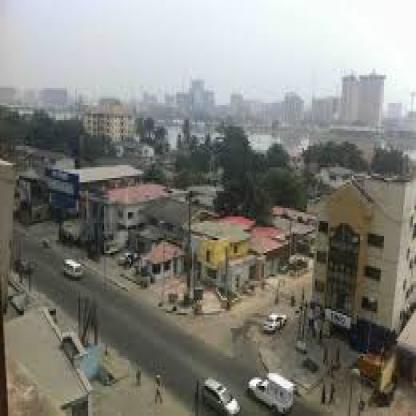car: (246, 358, 301, 416), (184, 369, 246, 416), (54, 254, 87, 281), (262, 304, 289, 336)
